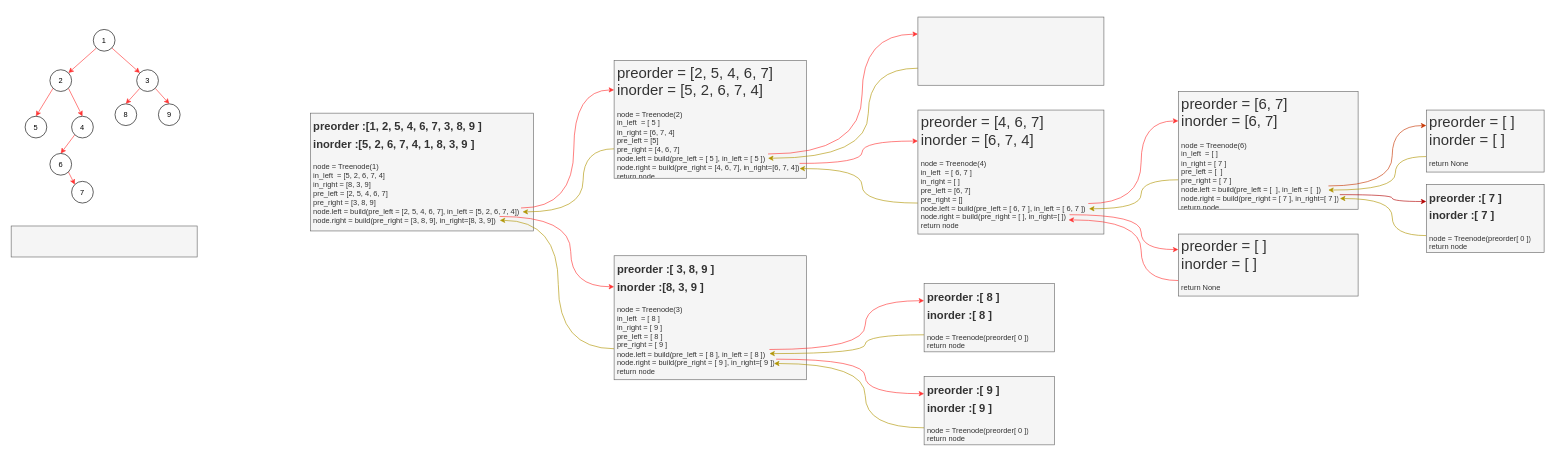
Some shapes in this 1555 by 456 pixel diagram are drawn without their labels. The shapes that lost their labels are listed below. From the top down, each one's centre as x and y in pixels, then its label:
point 1010,50: preorder :[ 5 ] inorder :[ 5 ] node = Treenode(preorder[ 0 ]) return node
point 104,241: preorder :[1, 2, 5, 4, 6, 7, 3, 8, 9 ] inorder :[5, 2, 6, 7, 4, 1, 8, 3, 9 ]
